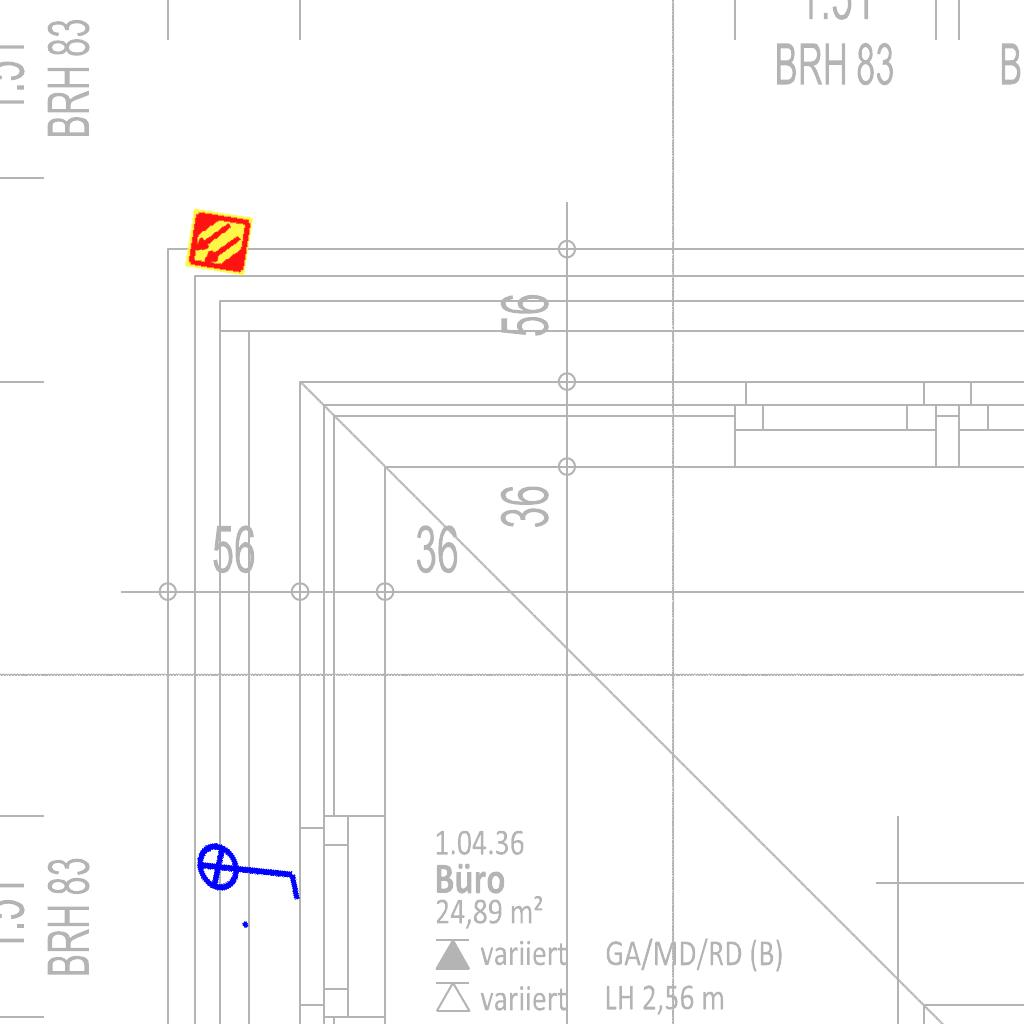ASR_Ansaugrauchmelder: (183, 206, 255, 278)
Ausschalter_beleuchtet: (181, 799, 317, 943)
